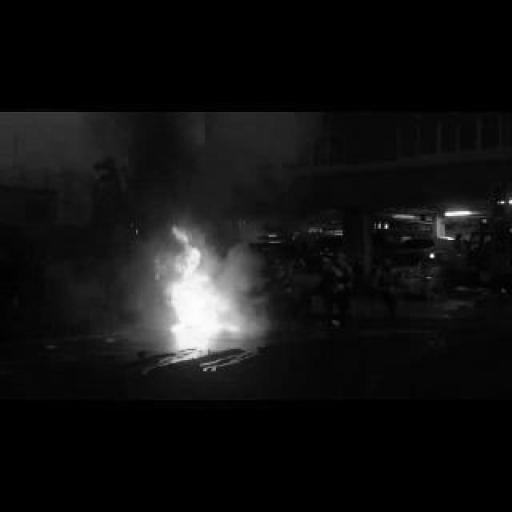smoke: (166, 228, 248, 334)
